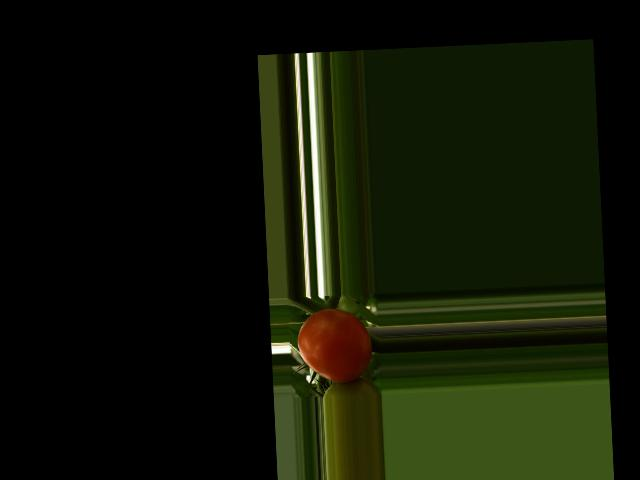tomato: (295, 307, 373, 385)
